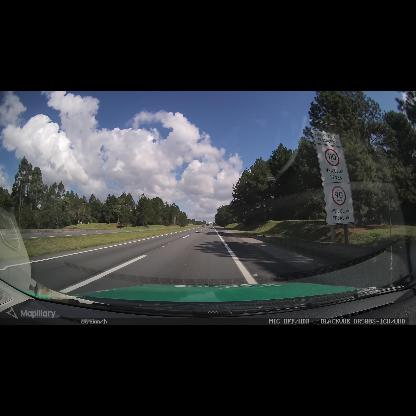I-SA: (311, 129, 342, 147)
R-19: (314, 143, 355, 225)
